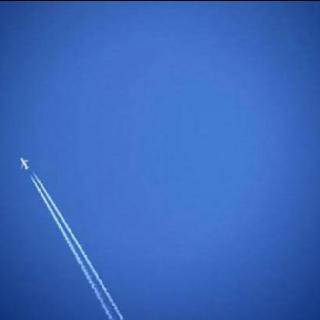Contrails: (28, 171, 130, 320)
